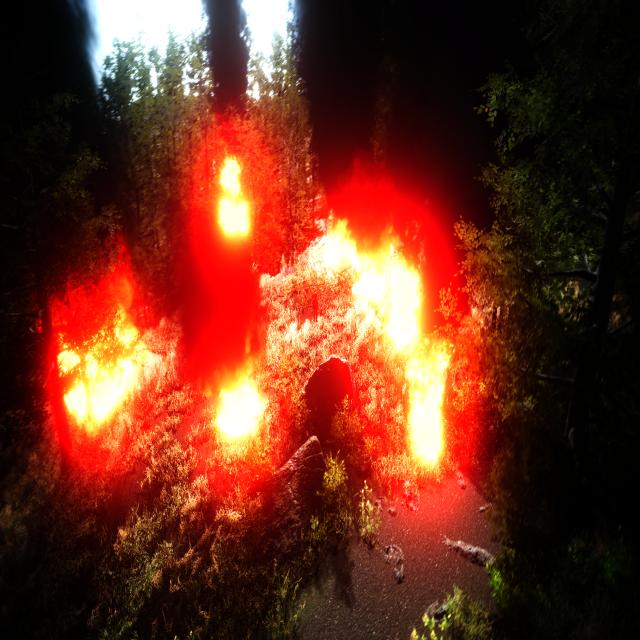Human: (310, 286, 320, 326)
